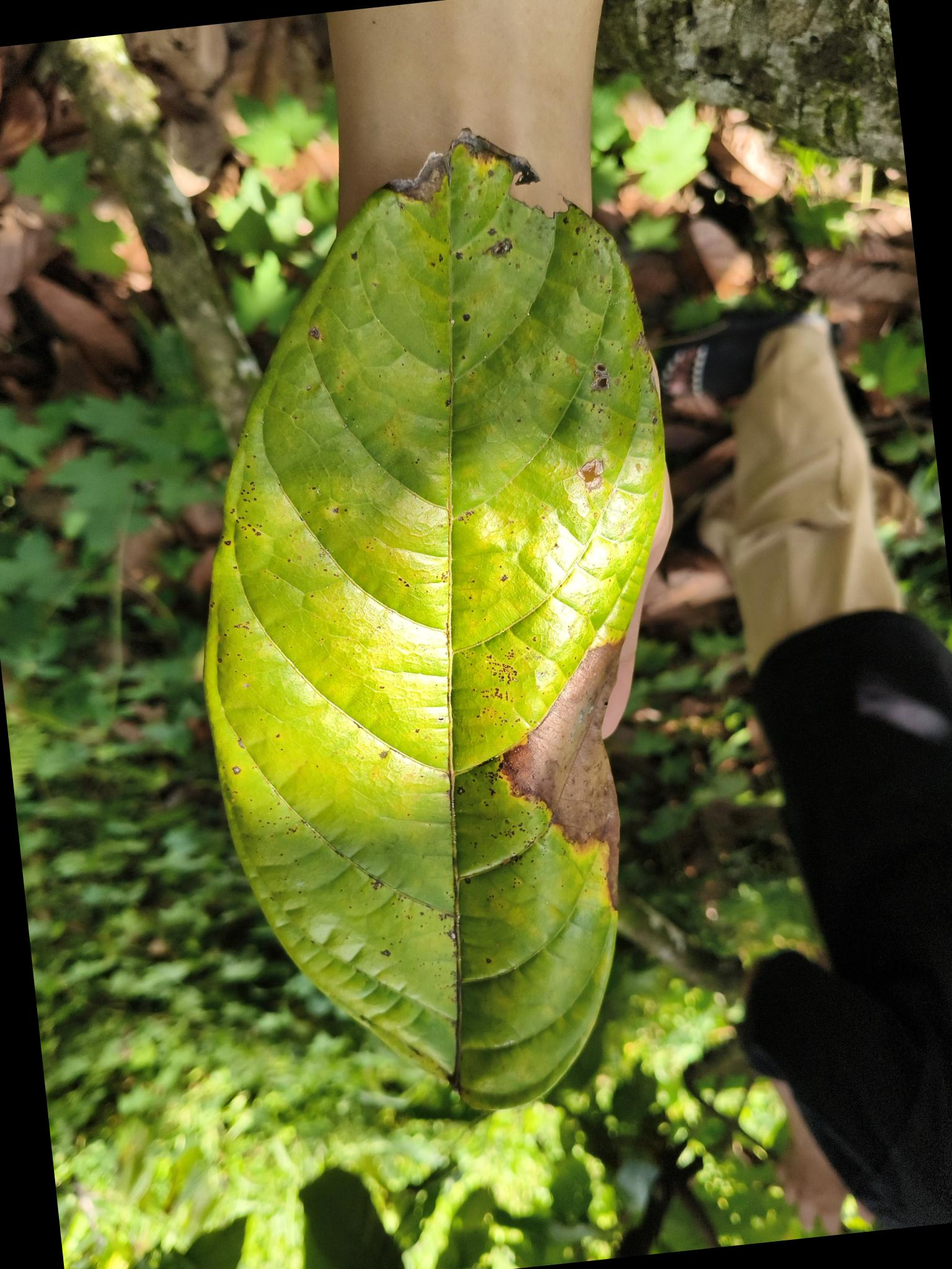Fosforo: (204, 122, 671, 1109)
